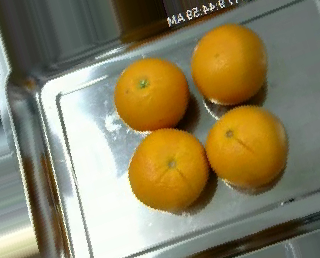Orange: (206, 104, 288, 191), (127, 128, 209, 212), (190, 23, 267, 106), (114, 56, 189, 133)
